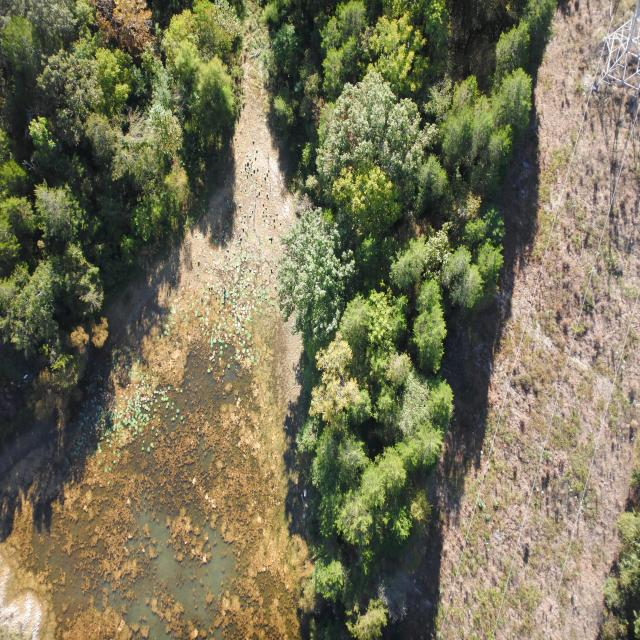Area of Interest: (274, 6, 564, 604), (4, 7, 236, 402)
